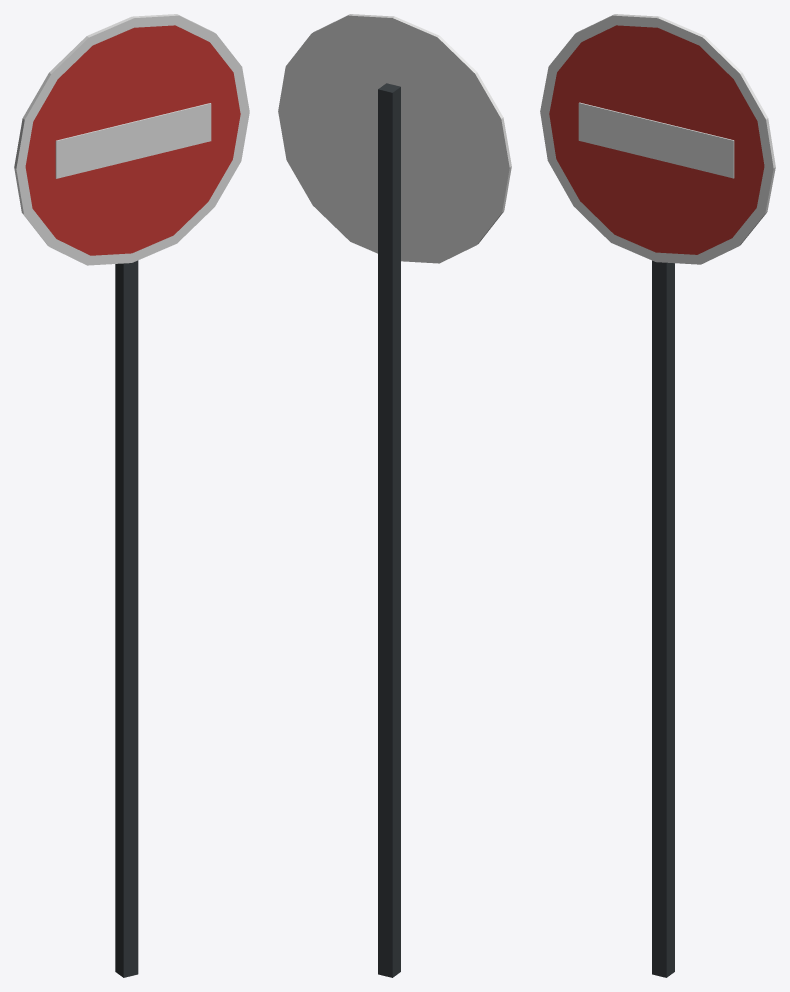
Rendered from SM_FloorProps_RoadSign_17.fbx.
The picture shows the model from 3 angles, left to right: view 1: azimuth 30°, elevation 25°; view 2: azimuth 150°, elevation 25°; view 3: azimuth 330°, elevation 25°; orthographic projection.
Parts seen in each view (by area): view 1: SM_FloorProps_RoadSign_17; view 2: SM_FloorProps_RoadSign_17; view 3: SM_FloorProps_RoadSign_17.
Boxes of the visible parts, x1,y1,x2,y2 form: SM_FloorProps_RoadSign_17: (14,14,249,977); SM_FloorProps_RoadSign_17: (278,14,511,977); SM_FloorProps_RoadSign_17: (540,14,775,977).
Size of the model in its own units: 0.6843 by 2.69 by 0.0575.
